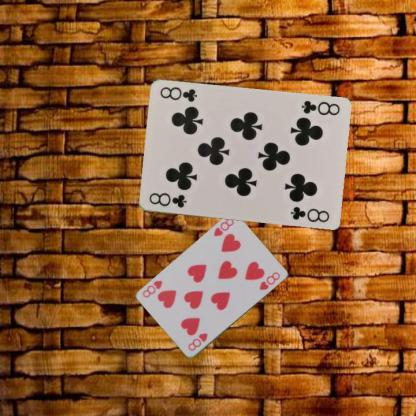8c: (297, 98, 341, 117), (146, 190, 188, 209)
8h: (211, 216, 235, 238), (186, 330, 209, 352)
